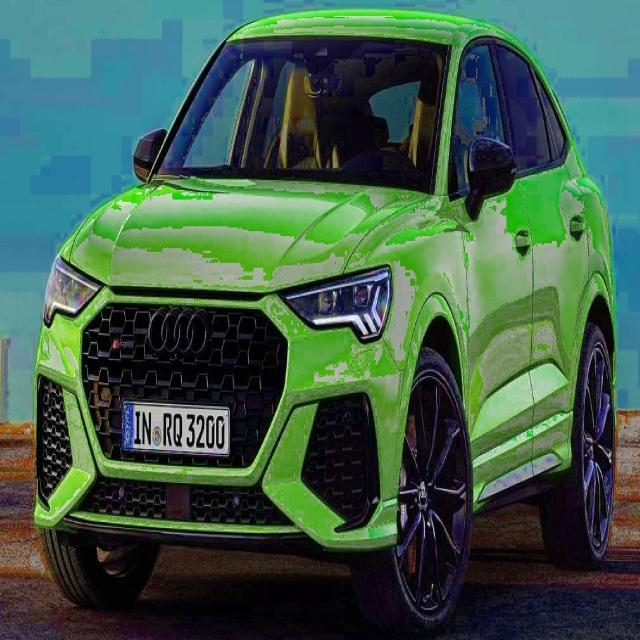green: (34, 10, 615, 629)
